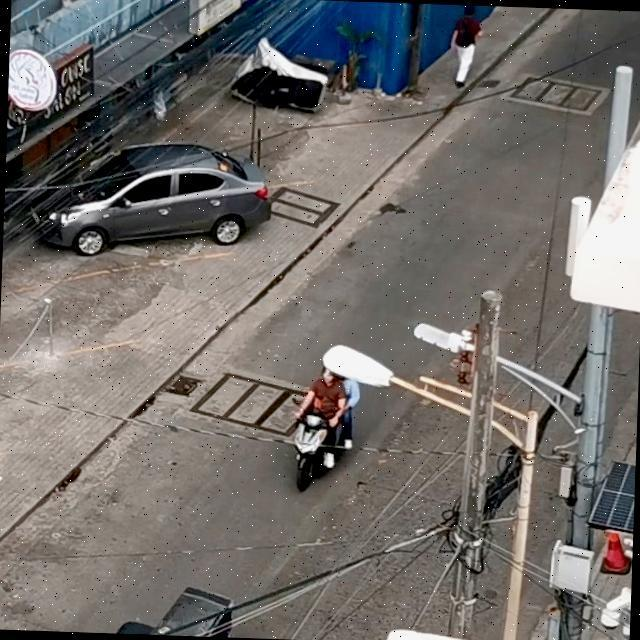Bike: (449, 4, 485, 88)
